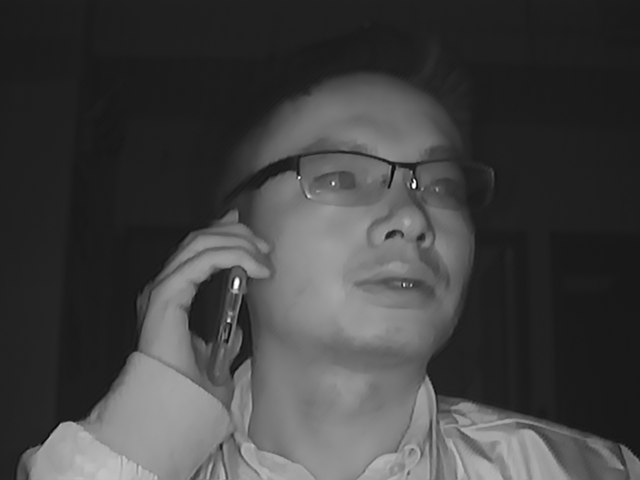hand: (137, 210, 273, 390)
